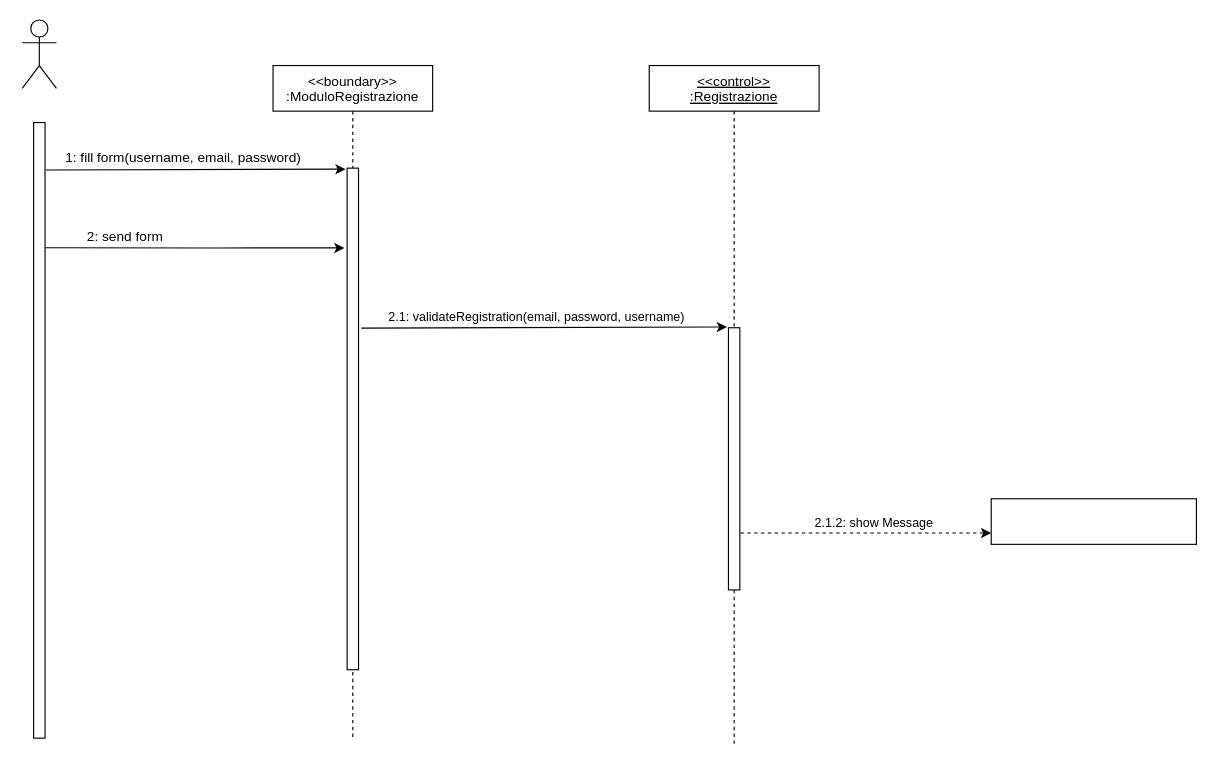
This 1216x764 diagram has some shape labels left out. The centre of each missing label's shape, as x and y in pixels:
"<<boundary>> :NotificaCampiMancanti" goes at [1093,521].
"Utente" goes at [38,53].
